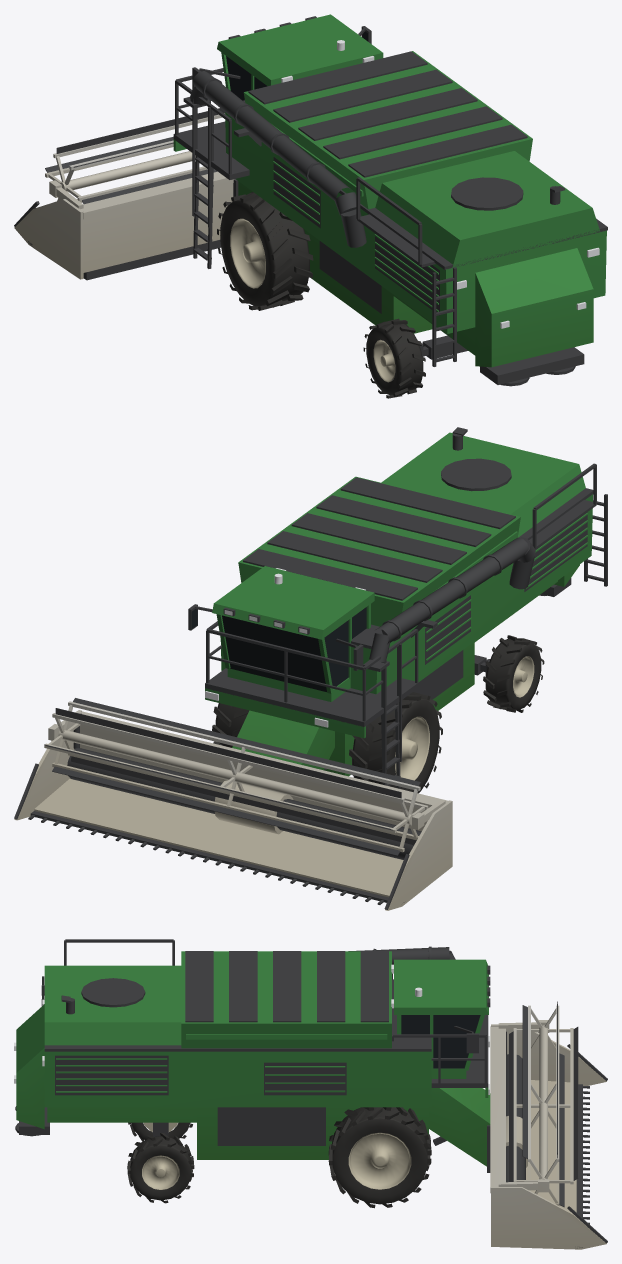
File: combine-harvester.glb
The picture shows the model from 3 angles, top to bottom: view 1: azimuth 30°, elevation 25°; view 2: azimuth 150°, elevation 25°; view 3: azimuth 270°, elevation 25°; orthographic projection. The views are drawn at different scales.
Visible parts, largest first — view 1: body, wheel_front_left, reel, auger, wheel_rear_left; view 2: body, reel, wheel_front_left, auger, wheel_rear_left, wheel_front_right; view 3: body, wheel_front_right, reel, wheel_rear_right, auger, wheel_rear_left.
Part boxes in pixels (<box>): body: <box>14,14,607,386</box>; wheel_front_left: <box>217,192,313,310</box>; reel: <box>45,108,224,204</box>; auger: <box>183,71,356,215</box>; wheel_rear_left: <box>363,318,425,398</box>; body: <box>14,427,607,910</box>; reel: <box>44,698,428,855</box>; wheel_front_left: <box>349,692,442,793</box>; auger: <box>363,537,535,671</box>; wheel_rear_left: <box>483,635,544,712</box>; wheel_front_right: <box>212,703,249,747</box>; body: <box>14,939,607,1249</box>; wheel_front_right: <box>328,1107,431,1208</box>; reel: <box>509,1001,578,1207</box>; wheel_rear_right: <box>127,1133,194,1203</box>; auger: <box>348,946,455,964</box>; wheel_rear_left: <box>128,1122,192,1141</box>.
Bounding box in the file's own units: 7.5 × 4.14 × 11.51.
